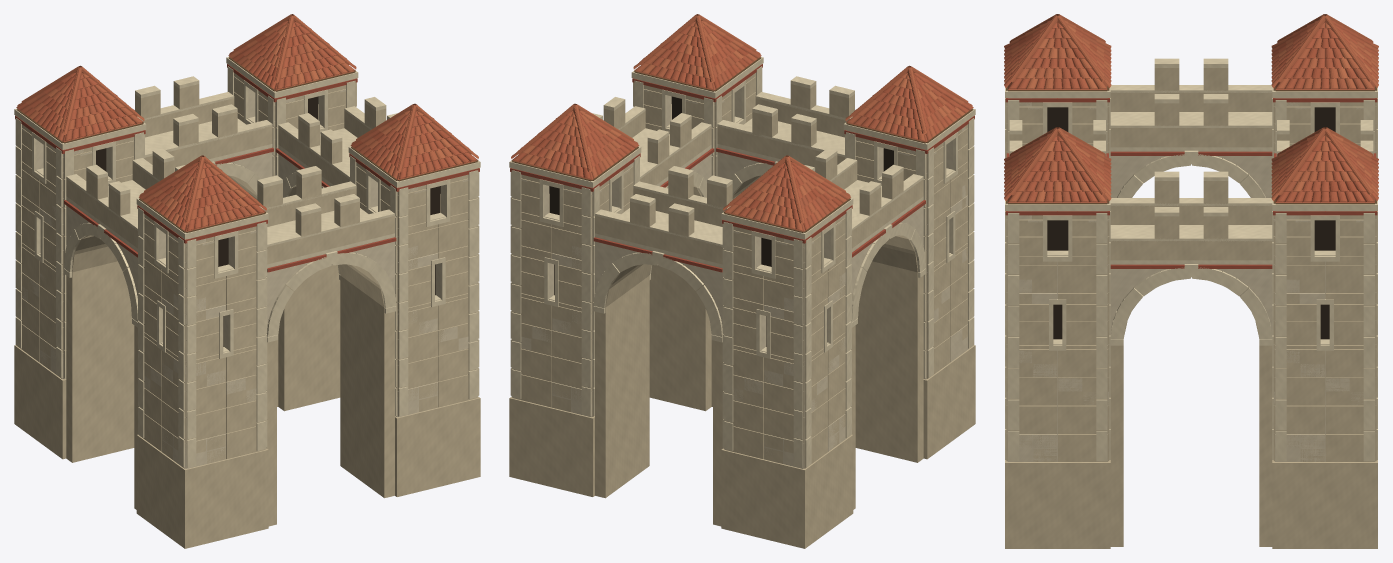
The model's file is verona_gate_crossing.glb.
The picture shows the model from 3 angles, left to right: view 1: azimuth 30°, elevation 25°; view 2: azimuth 150°, elevation 25°; view 3: azimuth 270°, elevation 25°; orthographic projection. The views are drawn at different scales.
Parts seen in each view (by area): view 1: Travertine.001, Travertine.002, Limestone_trim.002, Limestone_trim.001, Limewash.001, Tile_0.001, Tile_1.001, Limewash.002, Pompeian_red.001, Tile_5.001, Pompeian_red.002, Tile_2.001 (+7 smaller); view 2: Travertine.001, Travertine.002, Limestone_trim.001, Limestone_trim.002, Limewash.001, Tile_0.001, Tile_1.001, Limewash.002, Tile_5.001, Pompeian_red.002, Pompeian_red.001, Tile_2.001 (+7 smaller); view 3: Travertine.001, Travertine.002, Limestone_trim.001, Limestone_trim.002, Tile_0.001, Limewash.001, Tile_1.001, Limewash.002, Tile_5.001, Interior_shadow.001, Pompeian_red.001, Tile_2.001 (+6 smaller).
Boxes of the visible parts, x1=… form: Travertine.001: x1=15, y1=77, x2=479, y2=547; Travertine.002: x1=14, y1=73, x2=480, y2=548; Limestone_trim.002: x1=14, y1=57, x2=480, y2=467; Limestone_trim.001: x1=14, y1=57, x2=479, y2=467; Limewash.001: x1=21, y1=76, x2=477, y2=468; Tile_0.001: x1=16, y1=21, x2=477, y2=230; Tile_1.001: x1=17, y1=14, x2=473, y2=227; Limewash.002: x1=35, y1=88, x2=444, y2=468; Pompeian_red.001: x1=15, y1=64, x2=479, y2=272; Tile_5.001: x1=28, y1=22, x2=478, y2=217; Pompeian_red.002: x1=15, y1=64, x2=479, y2=272; Tile_2.001: x1=20, y1=43, x2=476, y2=231; Travertine.001: x1=512, y1=76, x2=974, y2=546; Travertine.002: x1=509, y1=73, x2=975, y2=548; Limestone_trim.001: x1=510, y1=57, x2=975, y2=467; Limestone_trim.002: x1=509, y1=57, x2=975, y2=467; Limewash.001: x1=512, y1=88, x2=967, y2=468; Tile_0.001: x1=511, y1=25, x2=973, y2=230; Tile_1.001: x1=516, y1=14, x2=968, y2=230; Limewash.002: x1=544, y1=88, x2=972, y2=468; Tile_5.001: x1=519, y1=21, x2=956, y2=223; Pompeian_red.002: x1=510, y1=64, x2=974, y2=272; Pompeian_red.001: x1=510, y1=64, x2=974, y2=271; Tile_2.001: x1=513, y1=21, x2=942, y2=231; Travertine.001: x1=1006, y1=68, x2=1376, y2=547; Travertine.002: x1=1005, y1=68, x2=1377, y2=548; Limestone_trim.001: x1=1005, y1=59, x2=1377, y2=460; Limestone_trim.002: x1=1005, y1=58, x2=1377, y2=461; Tile_0.001: x1=1004, y1=20, x2=1378, y2=202; Limewash.001: x1=1006, y1=98, x2=1376, y2=461; Tile_1.001: x1=1004, y1=14, x2=1378, y2=201; Limewash.002: x1=1007, y1=102, x2=1375, y2=461; Tile_5.001: x1=1004, y1=20, x2=1378, y2=201; Interior_shadow.001: x1=1047, y1=107, x2=1335, y2=339; Pompeian_red.001: x1=1005, y1=98, x2=1377, y2=268; Tile_2.001: x1=1004, y1=20, x2=1378, y2=202.
Bounding box in the file's own units: 9.95 × 11.69 × 9.95.
12 materials, 6 textured.
